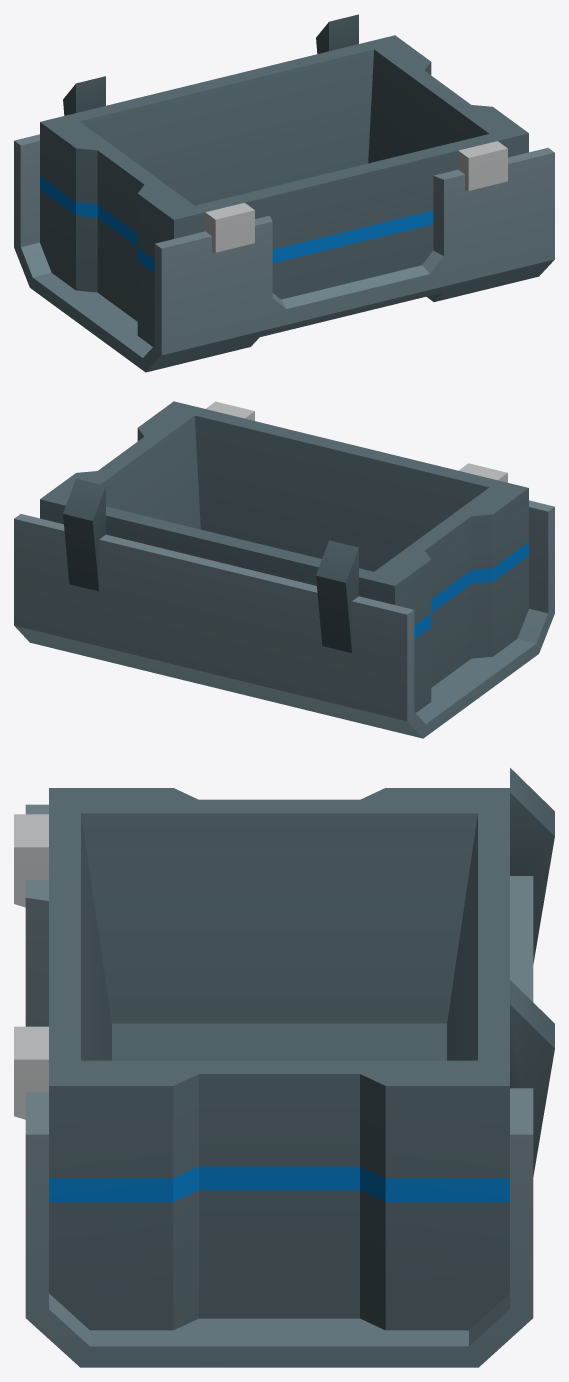
Rendered from Crate_015.fbx.
3 renders of one model, top to bottom at view 1: azimuth 30°, elevation 25°; view 2: azimuth 150°, elevation 25°; view 3: azimuth 270°, elevation 25°, orthographic. The views are drawn at different scales.
Parts seen in each view (by area): view 1: Crate_015; view 2: Crate_015; view 3: Crate_015.
Boxes of the visible parts, x1,y1,x2,y2 form: Crate_015: (14, 14, 554, 372); Crate_015: (14, 401, 554, 738); Crate_015: (14, 768, 554, 1367).
Bounding box in the file's own units: 100 × 69.28 × 44.76.
